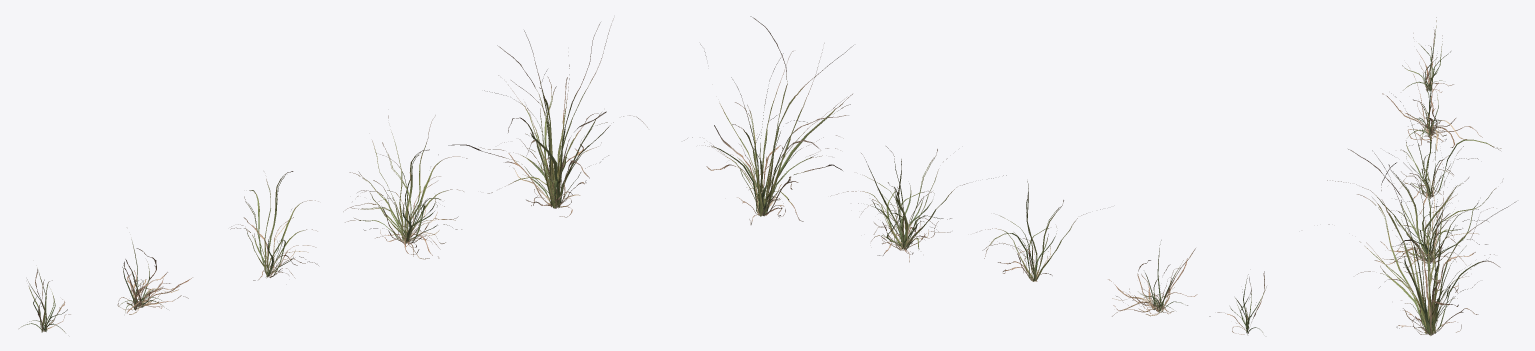
Rendered from grass_medium_02.obj.
3 views of the same model, side by side, from view 1: azimuth 30°, elevation 25°; view 2: azimuth 150°, elevation 25°; view 3: azimuth 270°, elevation 25° (orthographic). The views are drawn at different scales.
Parts seen in each view (by area): view 1: grass_medium_02_e_0, grass_medium_02_d_0, grass_medium_02_c_0, grass_medium_02_b_0, grass_medium_02_a_0; view 2: grass_medium_02_e_0, grass_medium_02_d_0, grass_medium_02_c_0, grass_medium_02_b_0, grass_medium_02_a_0; view 3: grass_medium_02_e_0, grass_medium_02_d_0, grass_medium_02_c_0, grass_medium_02_b_0, grass_medium_02_a_0.
Boxes of the visible parts, x1,y1,x2,y2 form: grass_medium_02_e_0: (448, 18, 647, 217); grass_medium_02_d_0: (343, 115, 467, 259); grass_medium_02_c_0: (230, 171, 318, 280); grass_medium_02_b_0: (117, 239, 192, 314); grass_medium_02_a_0: (19, 268, 70, 332); grass_medium_02_e_0: (684, 16, 853, 224); grass_medium_02_d_0: (830, 146, 1006, 262); grass_medium_02_c_0: (976, 181, 1100, 281); grass_medium_02_b_0: (1108, 240, 1197, 316); grass_medium_02_a_0: (1209, 271, 1266, 334); grass_medium_02_e_0: (1328, 149, 1516, 335); grass_medium_02_d_0: (1327, 146, 1503, 274); grass_medium_02_c_0: (1391, 93, 1501, 214); grass_medium_02_b_0: (1382, 53, 1482, 151); grass_medium_02_a_0: (1402, 17, 1453, 92).
Bounding box in the file's own units: 1.31 × 0.4053 × 0.4332.
